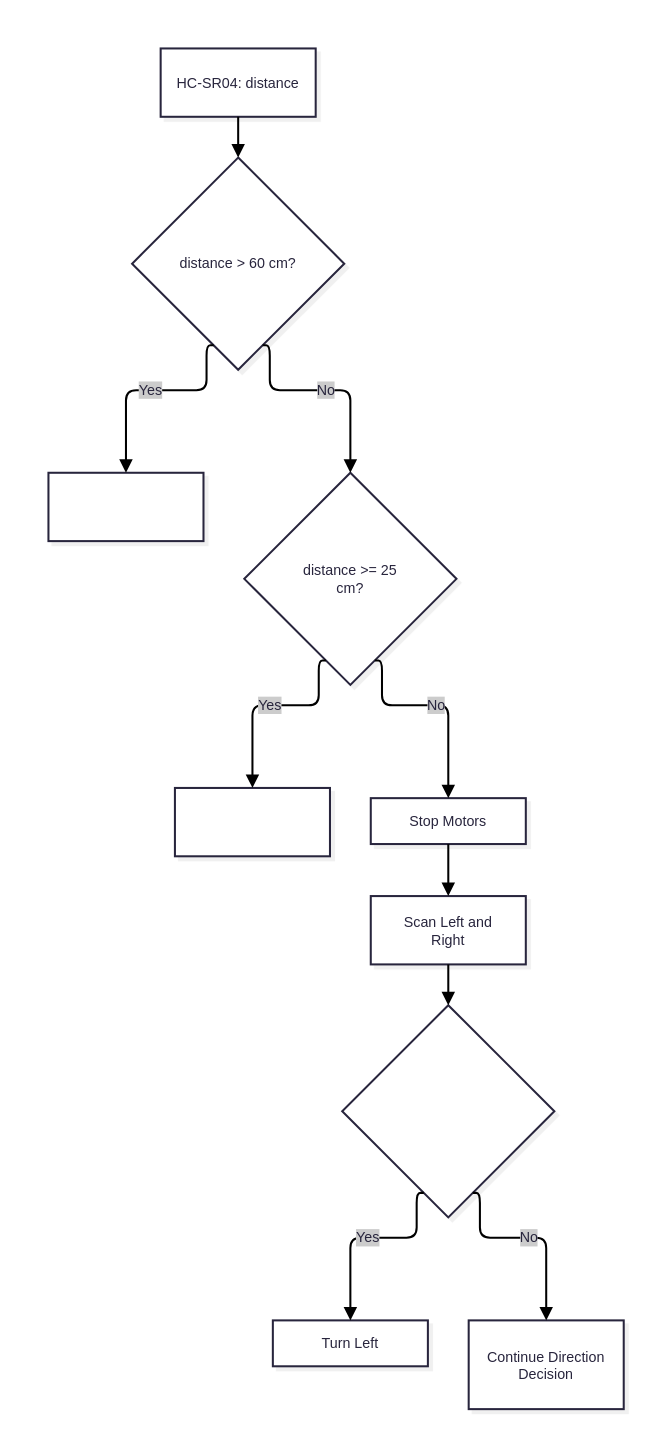
Some shapes in this 646 by 1431 pixel diagram are drawn without their labels. The shapes that lost their labels are listed below. From the top down, each one's centre as x and y in pixels, then its label:
At (x=127, y=508): "Forward - Higher Speed".
At (x=254, y=823): "Reduce Motor Speed".
At (x=450, y=1113): "Left Clear and Right Blocked?".
